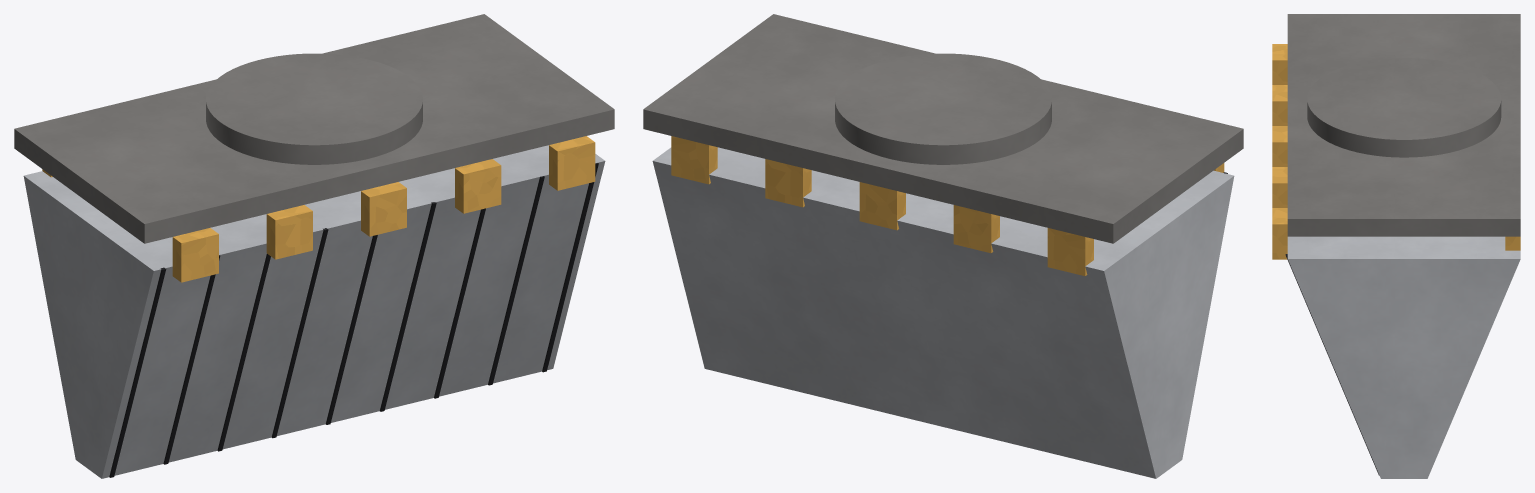
File: prop16_aerospike_linear.glb
The picture shows the model from 3 angles, left to right: view 1: azimuth 30°, elevation 25°; view 2: azimuth 150°, elevation 25°; view 3: azimuth 270°, elevation 25°; orthographic projection. The views are drawn at different scales.
Parts seen in each view (by area): view 1: ramps, thrust_structure, mount, chamber_rows, ramp_ribs; view 2: ramps, thrust_structure, mount, chamber_rows; view 3: thrust_structure, ramps, mount, chamber_rows, ramp_ribs.
Part boxes in pixels (<box>): ramps: <box>23,145,605,478</box>; thrust_structure: <box>14,14,614,243</box>; mount: <box>206,53,422,164</box>; chamber_rows: <box>42,136,595,282</box>; ramp_ribs: <box>109,163,598,477</box>; ramps: <box>652,147,1234,478</box>; thrust_structure: <box>643,14,1243,243</box>; mount: <box>835,53,1051,164</box>; chamber_rows: <box>671,136,1224,275</box>; thrust_structure: <box>1287,14,1520,236</box>; ramps: <box>1287,236,1520,478</box>; mount: <box>1307,58,1501,157</box>; chamber_rows: <box>1272,44,1520,259</box>; ramp_ribs: <box>1285,254,1379,475</box>.
Bounding box in the file's own units: 2.5 × 1.6 × 1.28.
4 materials, 3 textured.
